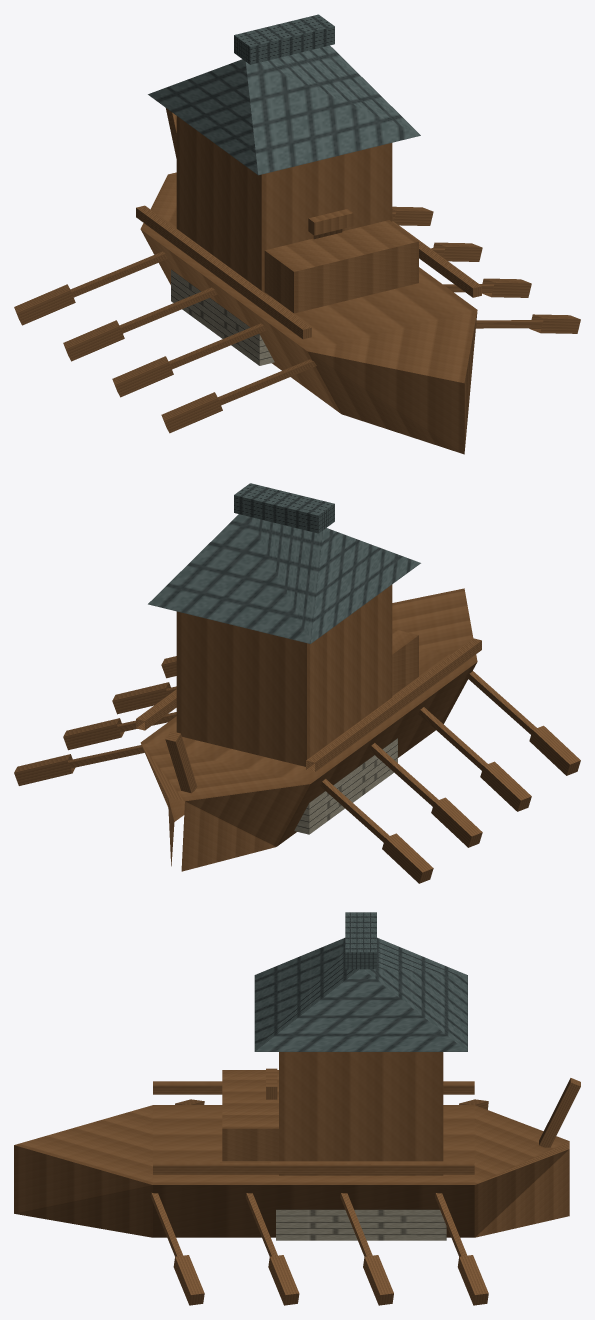
Rendered from unit-TOWER_SHIP-lod1.glb.
3 renders of one model, top to bottom at view 1: azimuth 30°, elevation 25°; view 2: azimuth 150°, elevation 25°; view 3: azimuth 270°, elevation 25°, orthographic. The views are drawn at different scales.
Size of the model in its own units: 0.7343 by 0.492 by 0.8982.
Materials: 1 (1 with a texture image).
